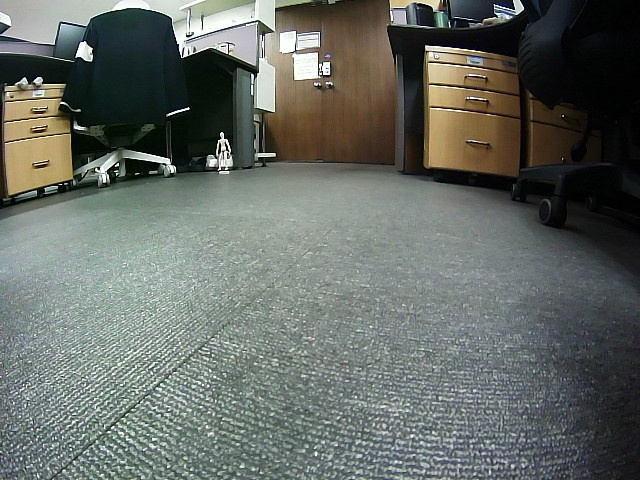person: (215, 129, 231, 171)
